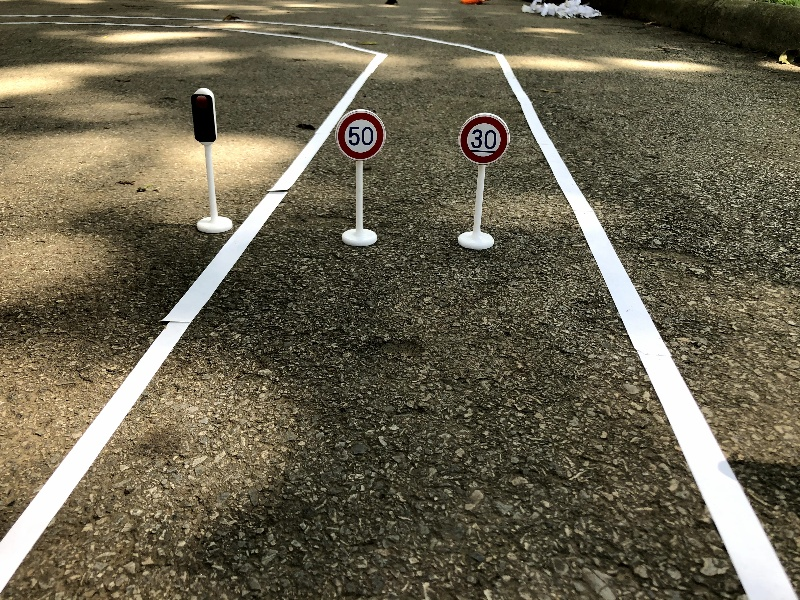Limit 30: (454, 111, 512, 254)
Limit 50: (334, 108, 389, 248)
Red: (189, 86, 236, 235)
